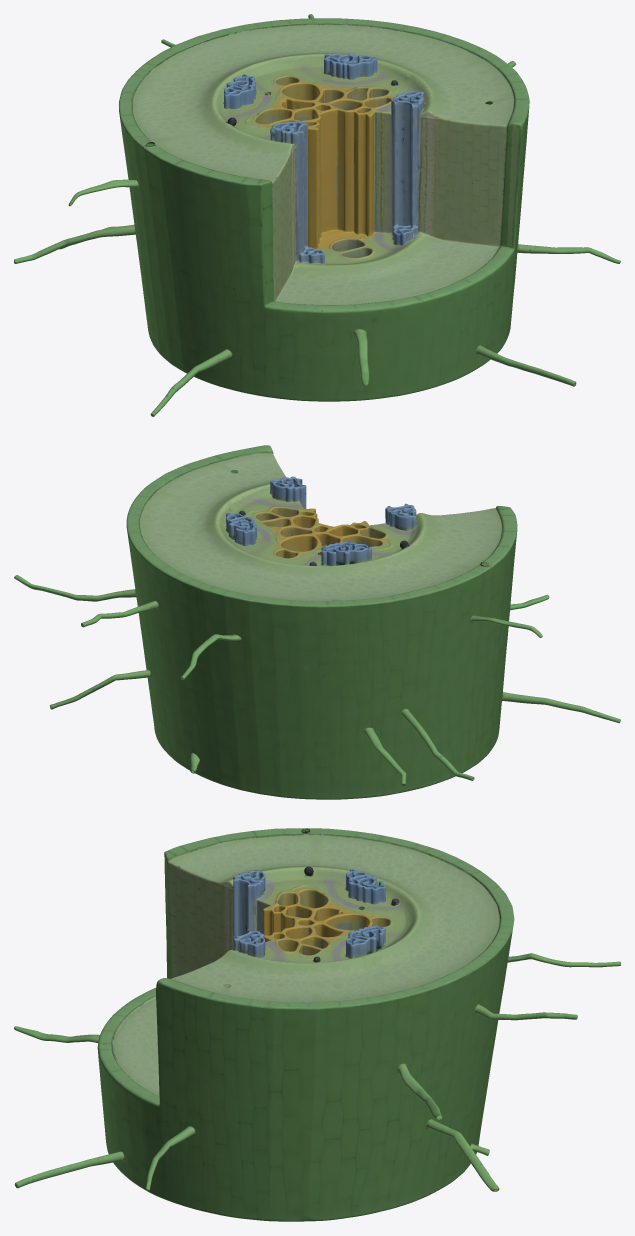
The model's file is Lop11_Rễ cây và cơ chế hấp thụ nước_Tab1_Tế bào lông hút.glb.
The picture shows the model from 3 angles, top to bottom: view 1: azimuth 30°, elevation 25°; view 2: azimuth 150°, elevation 25°; view 3: azimuth 270°, elevation 25°; orthographic projection. The views are drawn at different scales.
Parts seen in each view (by area): view 1: tripo_part_0, tripo_part_1, tripo_part_6, tripo_part_26, tripo_part_4, tripo_part_38, tripo_part_20, tripo_part_9, tripo_part_5, tripo_part_43, tripo_part_31, tripo_part_2 (+7 smaller); view 2: tripo_part_0, tripo_part_1, tripo_part_7, tripo_part_31, tripo_part_6, tripo_part_32, tripo_part_2, tripo_part_28, tripo_part_4, tripo_part_14, tripo_part_8, tripo_part_5 (+4 smaller); view 3: tripo_part_1, tripo_part_0, tripo_part_4, tripo_part_5, tripo_part_7, tripo_part_2, tripo_part_31, tripo_part_8, tripo_part_18, tripo_part_23, tripo_part_6, tripo_part_33 (+4 smaller).
Boxes of the visible parts, x1,y1,x2,y2 form: tripo_part_0: (119, 29, 423, 401); tripo_part_1: (222, 18, 529, 391); tripo_part_6: (391, 91, 424, 234); tripo_part_26: (356, 95, 396, 235); tripo_part_4: (270, 121, 311, 263); tripo_part_38: (352, 108, 372, 236); tripo_part_20: (331, 98, 362, 232); tripo_part_9: (152, 142, 399, 263); tripo_part_5: (267, 108, 322, 249); tripo_part_43: (318, 112, 335, 233); tripo_part_31: (272, 73, 335, 158); tripo_part_2: (324, 52, 377, 79); tripo_part_0: (223, 506, 517, 799); tripo_part_1: (126, 445, 285, 789); tripo_part_7: (319, 541, 371, 565); tripo_part_31: (269, 523, 332, 559); tripo_part_6: (270, 476, 306, 509); tripo_part_32: (502, 692, 620, 723); tripo_part_2: (225, 513, 256, 546); tripo_part_28: (14, 575, 136, 601); tripo_part_4: (385, 503, 416, 530); tripo_part_14: (401, 708, 474, 780); tripo_part_8: (50, 669, 151, 709); tripo_part_5: (328, 521, 388, 539); tripo_part_1: (97, 915, 514, 1221); tripo_part_0: (98, 828, 514, 1046); tripo_part_4: (233, 869, 265, 935); tripo_part_5: (255, 891, 312, 935); tripo_part_7: (345, 869, 385, 904); tripo_part_2: (345, 925, 385, 958); tripo_part_31: (294, 906, 395, 937); tripo_part_8: (426, 1119, 499, 1191); tripo_part_18: (14, 1151, 124, 1188); tripo_part_23: (293, 886, 332, 920); tripo_part_6: (233, 929, 265, 958); tripo_part_33: (474, 1004, 577, 1020).
Bounding box in the file's own units: 0.9816 × 0.4696 × 1.
Materials: 38 (38 with a texture image).
